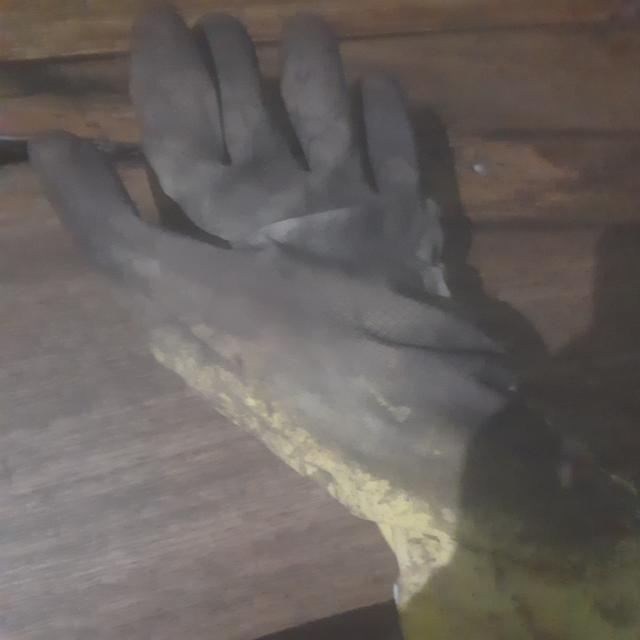glove: (24, 0, 632, 640)
